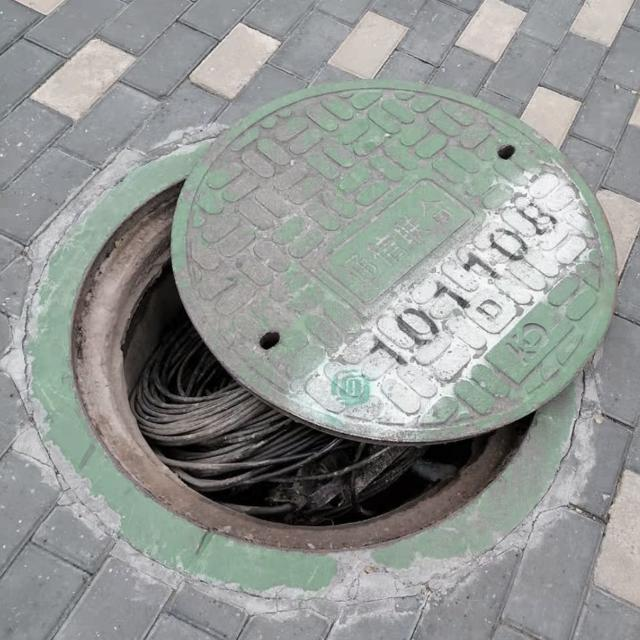uncovered: (27, 81, 622, 600)
